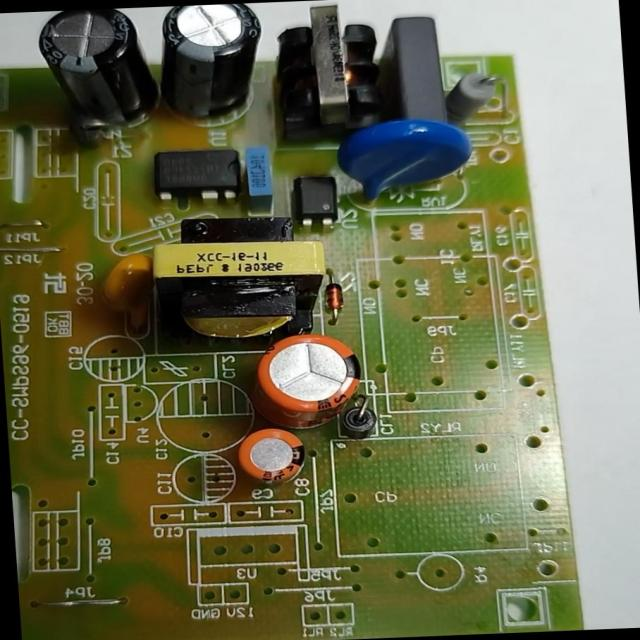Cap1: (252, 331, 367, 432)
Cap2: (232, 424, 312, 489)
Cap3: (147, 3, 270, 128)
Cap4: (33, 7, 159, 137)
MOSFET: (143, 145, 247, 205)
Mov: (332, 115, 478, 212)
Resistor: (443, 62, 504, 119)
Transformer: (140, 208, 334, 350), (266, 0, 393, 148)
